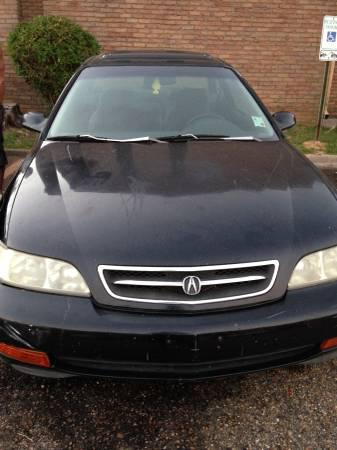acura: (2, 48, 337, 394)
